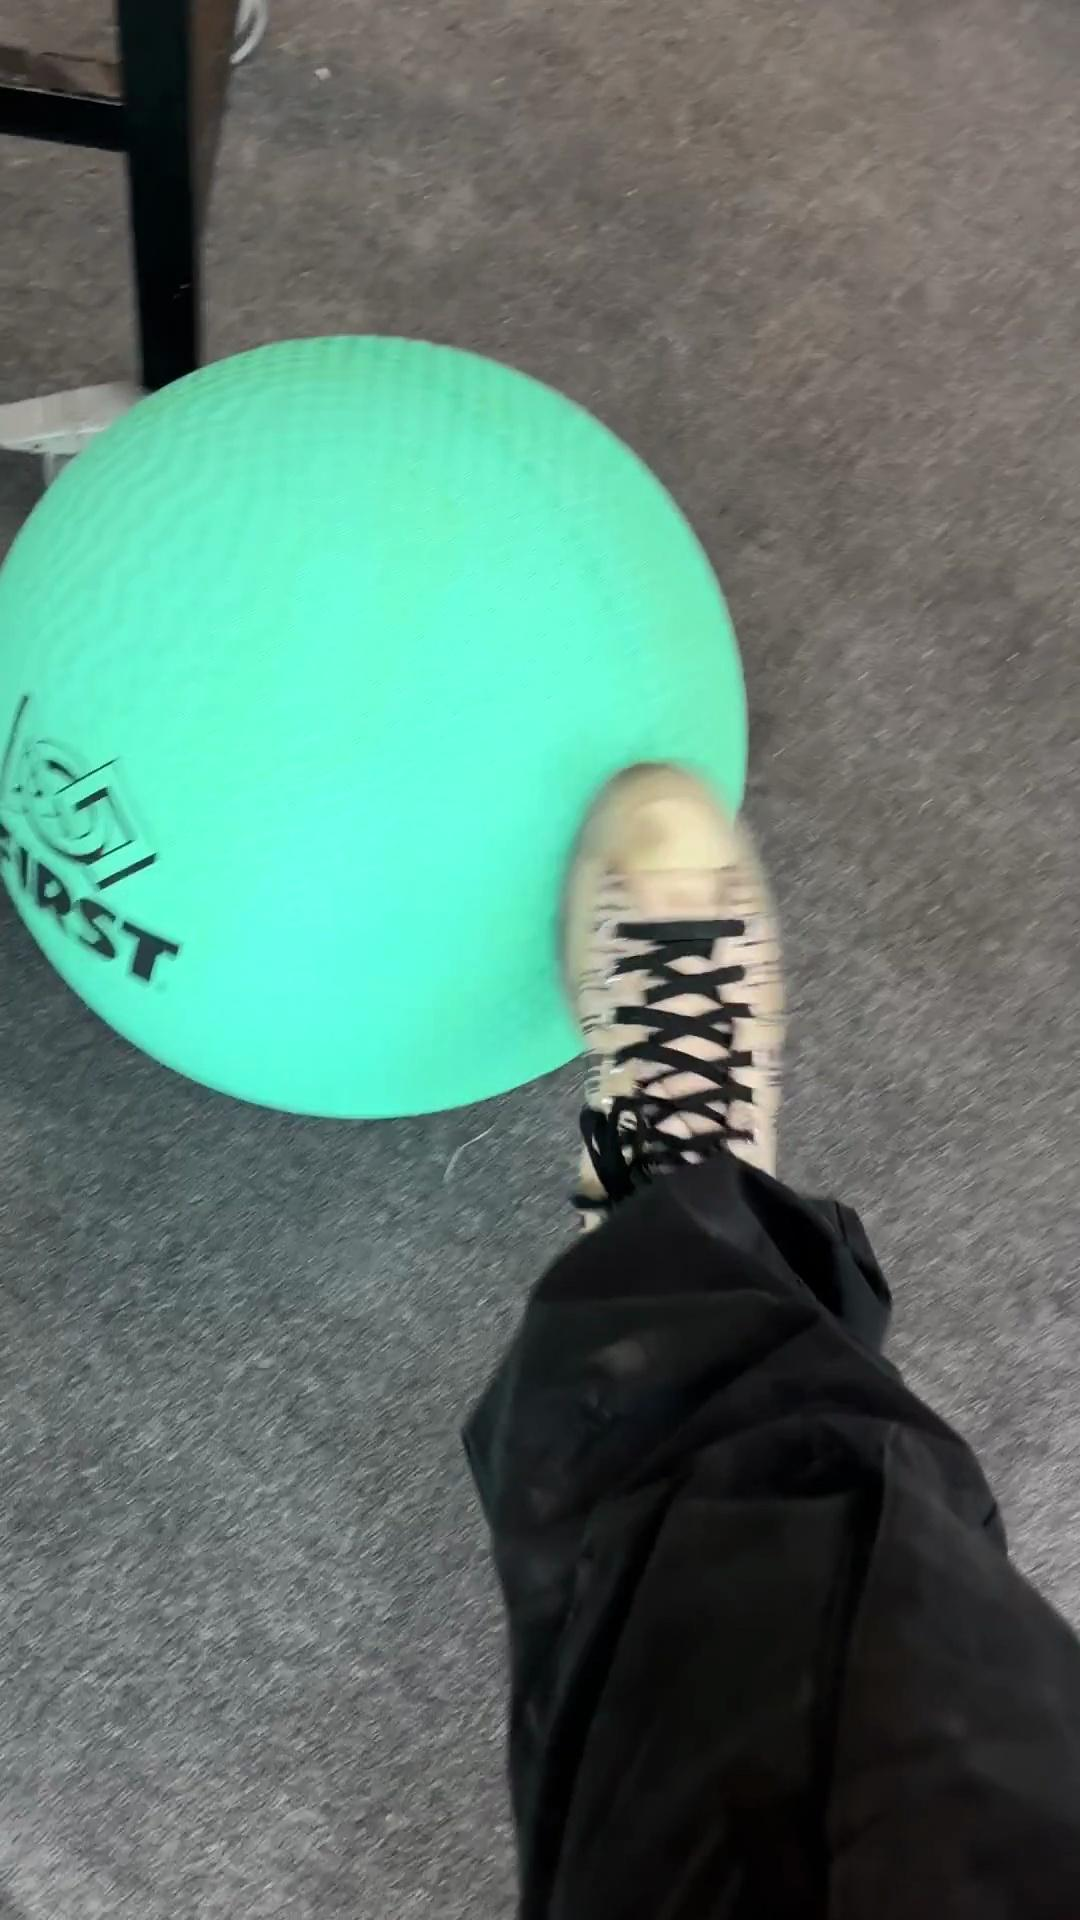ALGAE: (3, 328, 752, 1124)
